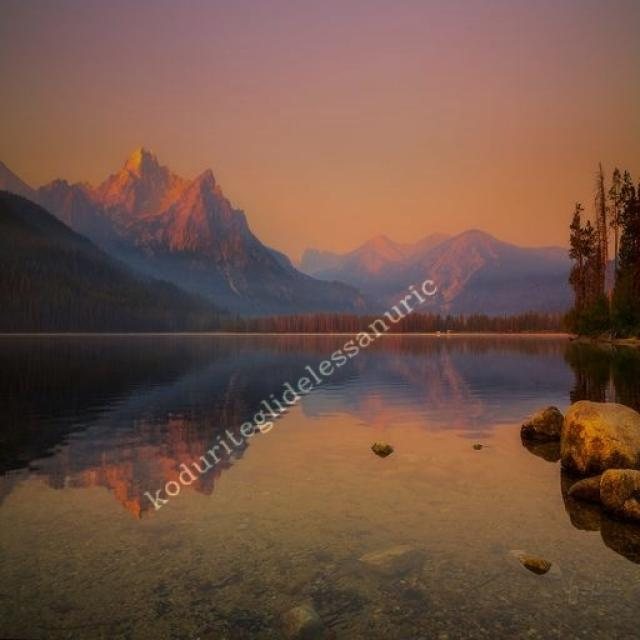watermark: (147, 265, 439, 515)
